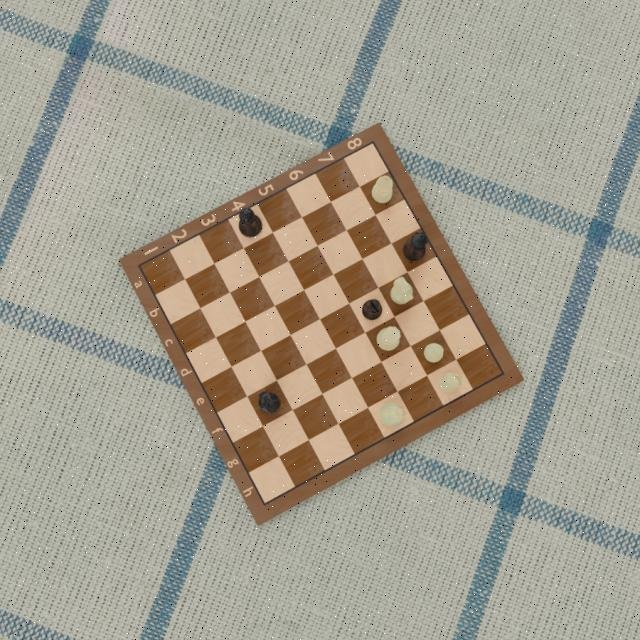black-bishop: (360, 298, 383, 321)
black-king: (236, 206, 264, 241)
black-knight: (258, 388, 281, 419)
black-queen: (403, 230, 429, 265)
white-bishop: (440, 370, 464, 396)
white-king: (380, 400, 404, 427)
white-knight: (389, 276, 414, 310)
white-pawn: (422, 342, 445, 364)
white-queen: (375, 325, 401, 355)
white-rook: (371, 174, 394, 206)
